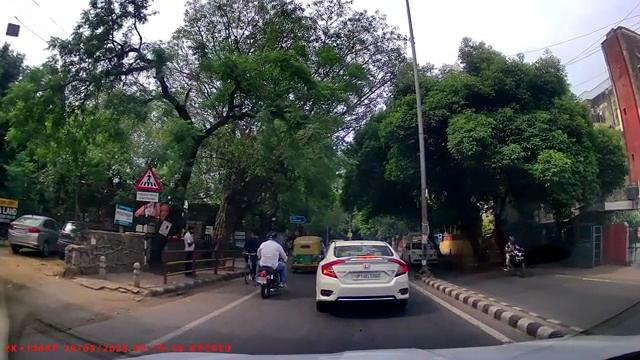motorcycle_with_helmet: (254, 230, 289, 300)
